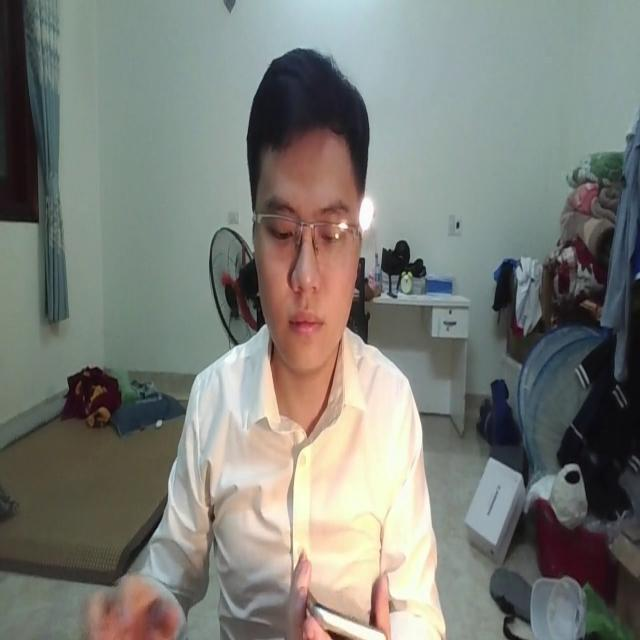phone: (300, 577, 385, 640)
student: (91, 49, 443, 640)
